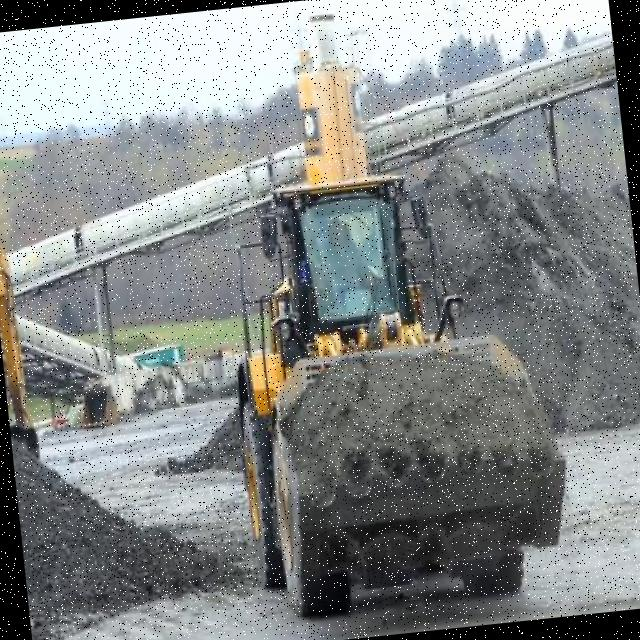Excavator: (0, 229, 42, 464)
Loader: (208, 147, 580, 628)
